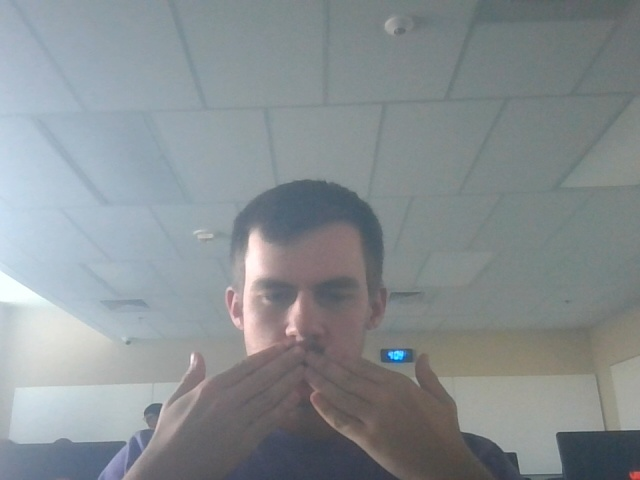thanks: (116, 341, 508, 479)
